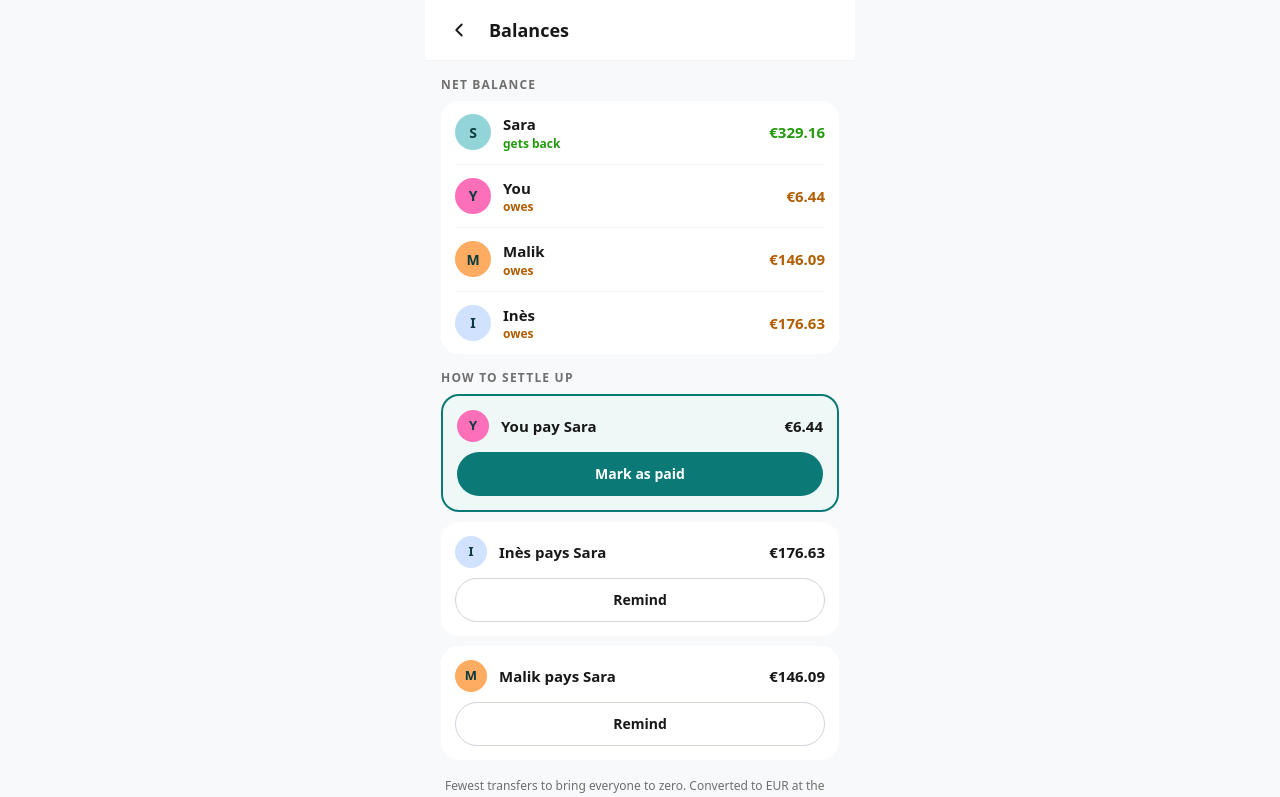
Test: balances › rolls the payment back and says so when the server refuses it
Click the button "Mark as paid" at point(640, 474), box [457,452,823,496]
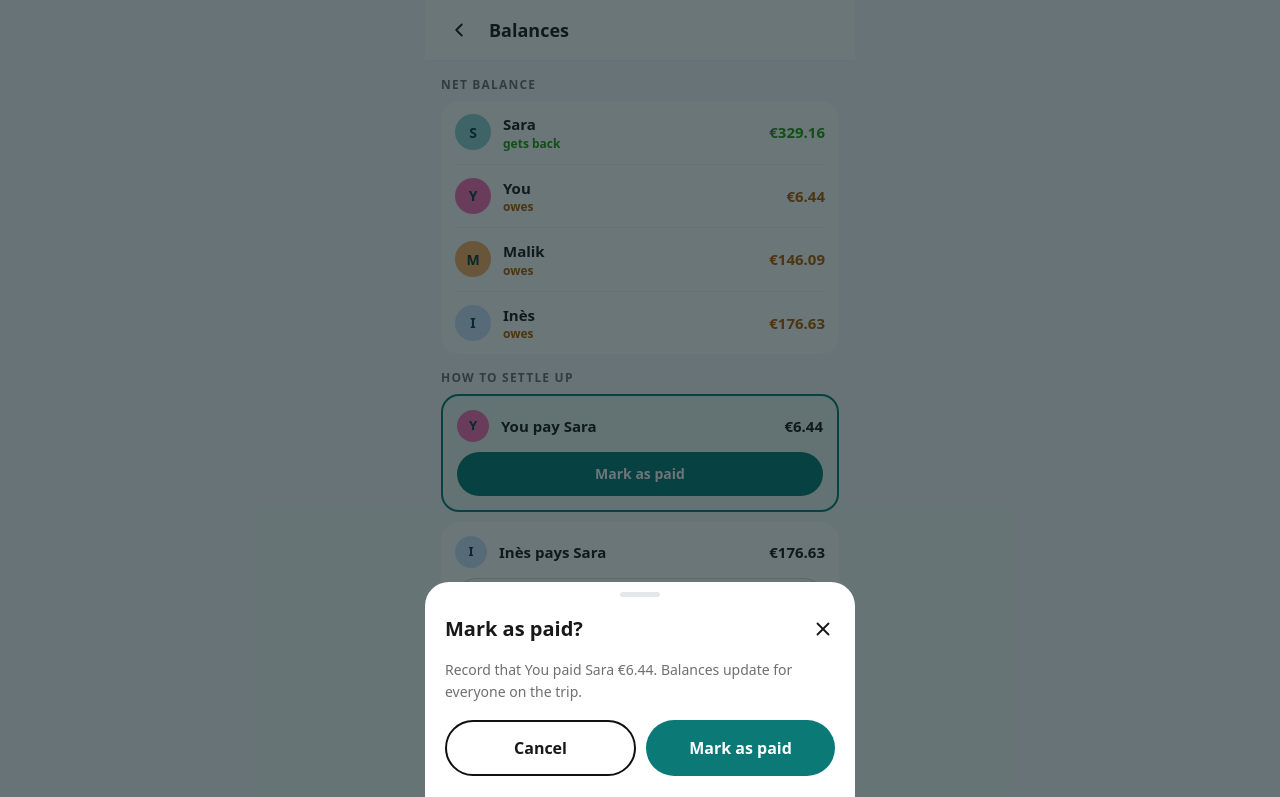
Click the button "Mark as paid" at point(740, 748), box [646,720,835,776]
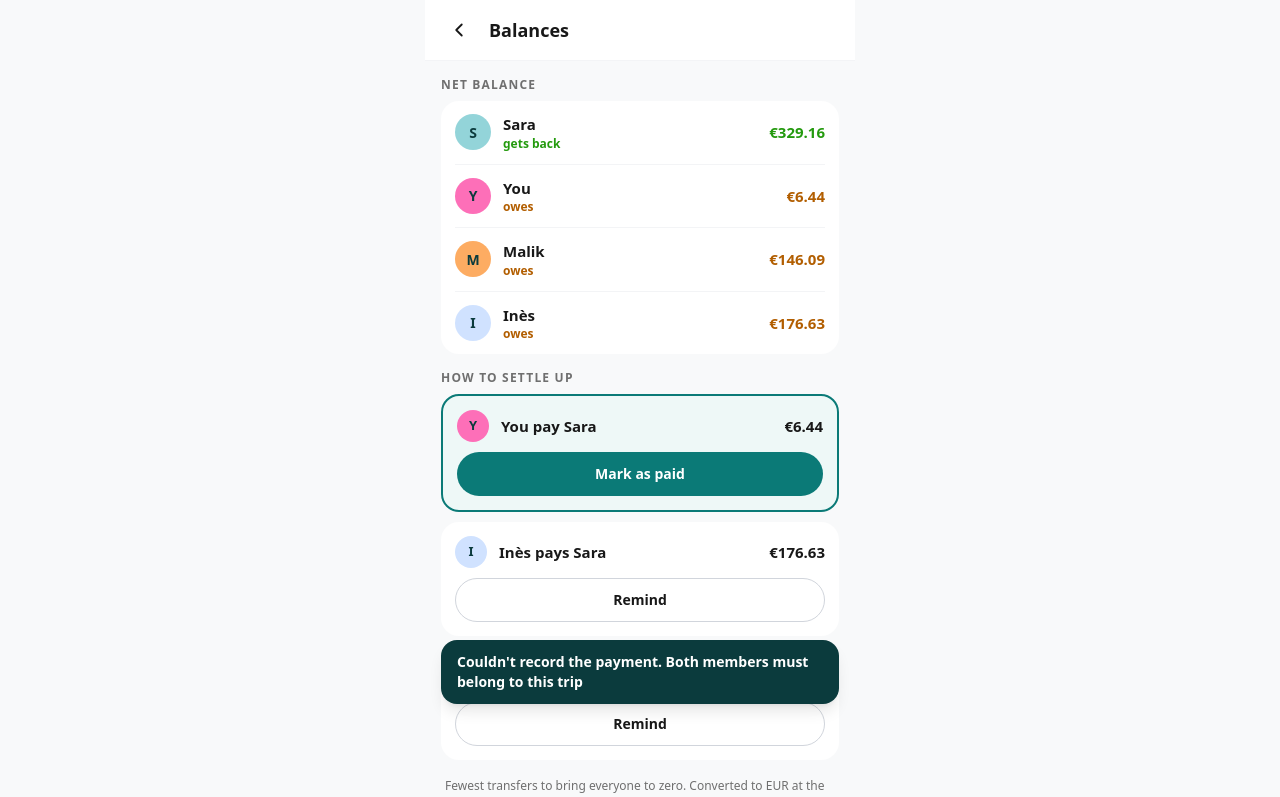
Expected: the message shows "Couldn't record the payment", [457,652,808,691]
